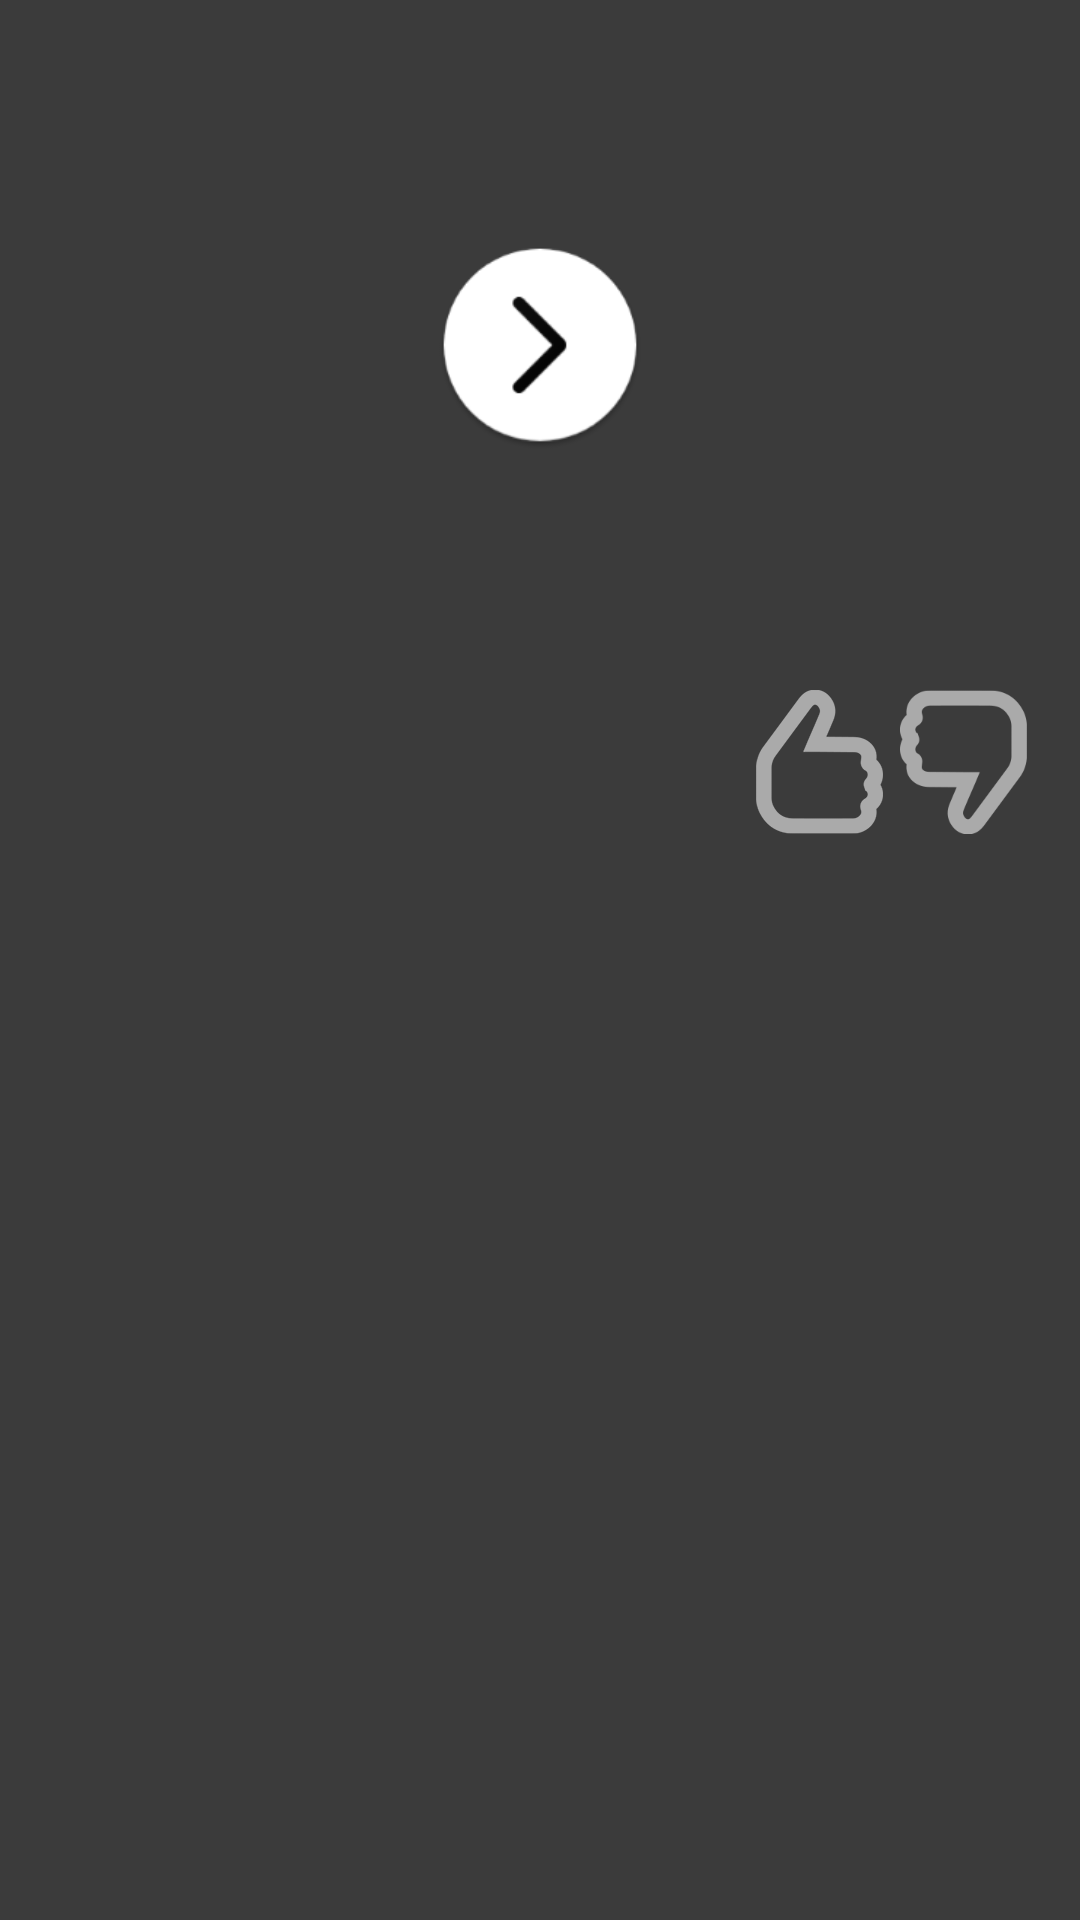

Icons on this 1080px×1920px Android screen, each with the point to tap as point (x, y):
dislike unfilled: point (963, 762)
like unfilled: point (819, 762)
play: point (540, 345)
